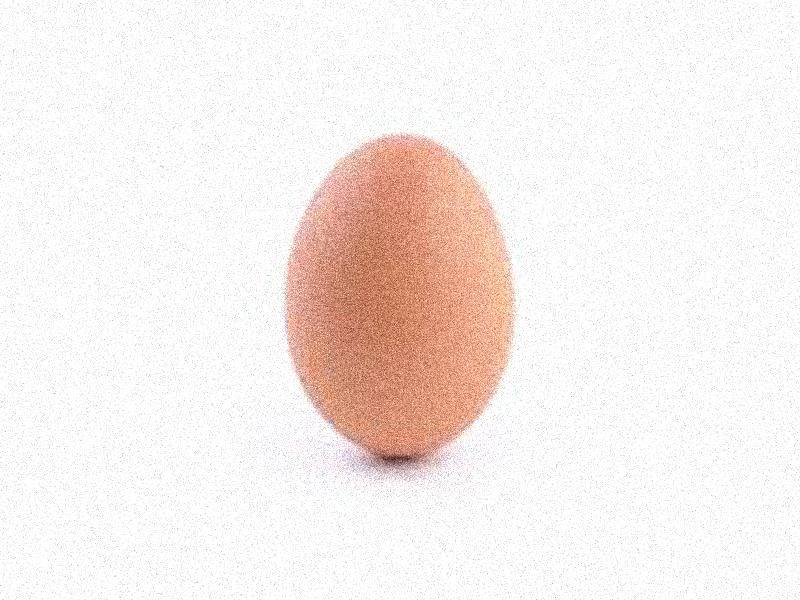Eggs: (281, 134, 514, 456)
